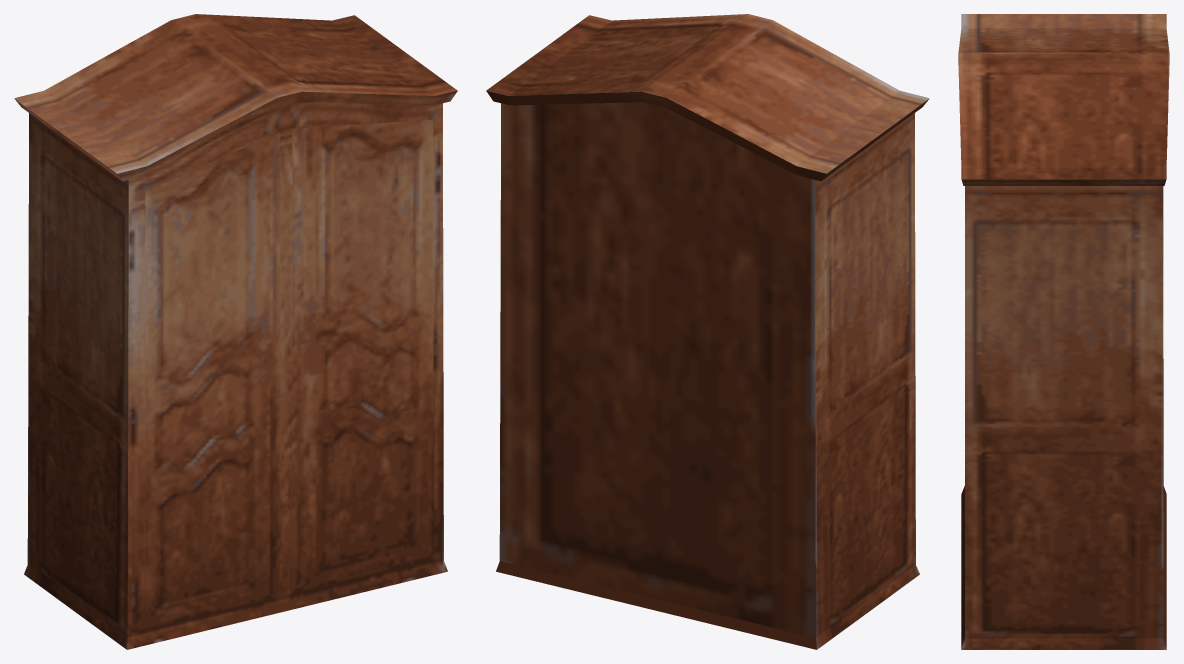
File: shkaf_s_dverc.fbx
3 views of the same model, side by side, from view 1: azimuth 30°, elevation 25°; view 2: azimuth 150°, elevation 25°; view 3: azimuth 270°, elevation 25° (orthographic).
Parts seen in each view (by area): view 1: Cube.006, Door2, Door1; view 2: Cube.006; view 3: Cube.006.
Part boxes in pixels (<box>): Cube.006: <box>14,14,457,649</box>; Door2: <box>292,119,433,589</box>; Door1: <box>145,133,280,625</box>; Cube.006: <box>486,14,929,649</box>; Cube.006: <box>958,14,1169,649</box>.
Bounding box in the file's own units: 115 × 167 × 61.99.
Materials: 1 (1 with a texture image).
